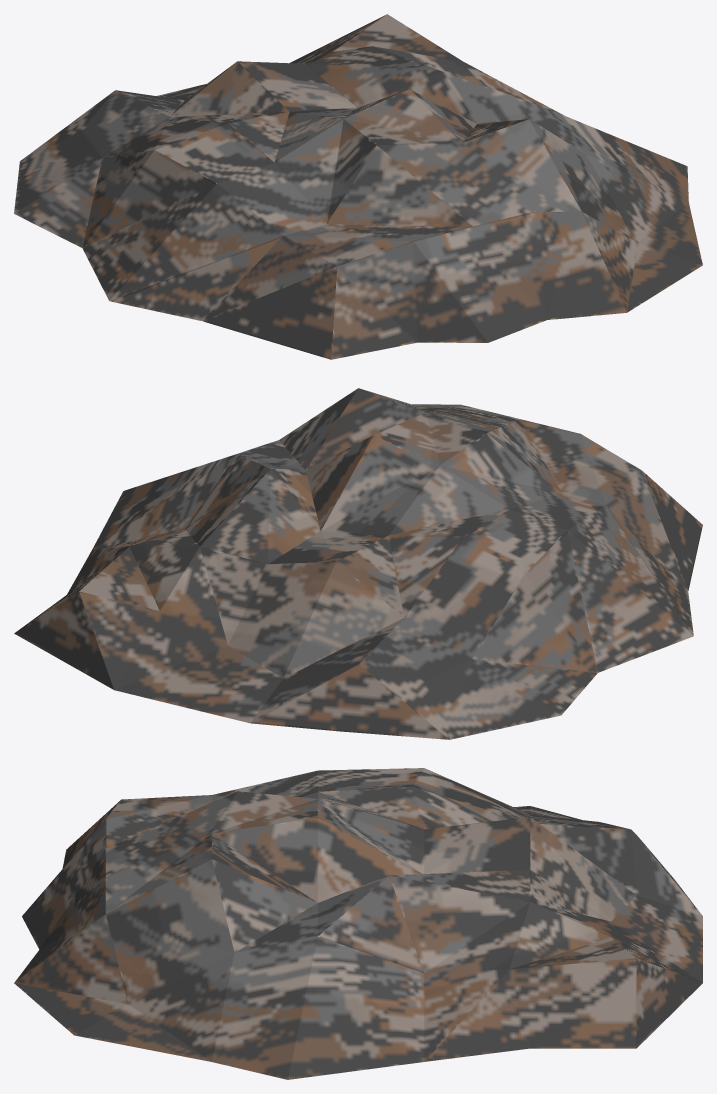
The model's file is JunkPile.fbx.
The picture shows the model from 3 angles, top to bottom: view 1: azimuth 30°, elevation 25°; view 2: azimuth 150°, elevation 25°; view 3: azimuth 270°, elevation 25°; orthographic projection.
Parts seen in each view (by area): view 1: mesh; view 2: mesh; view 3: mesh.
Boxes of the visible parts, left/top/right/bottom form: mesh: left=14, top=14, right=702, bottom=359; mesh: left=14, top=388, right=702, bottom=739; mesh: left=14, top=768, right=702, bottom=1079.
Bounding box in the file's own units: 890 × 194 × 916.
1 material, 1 textured.
